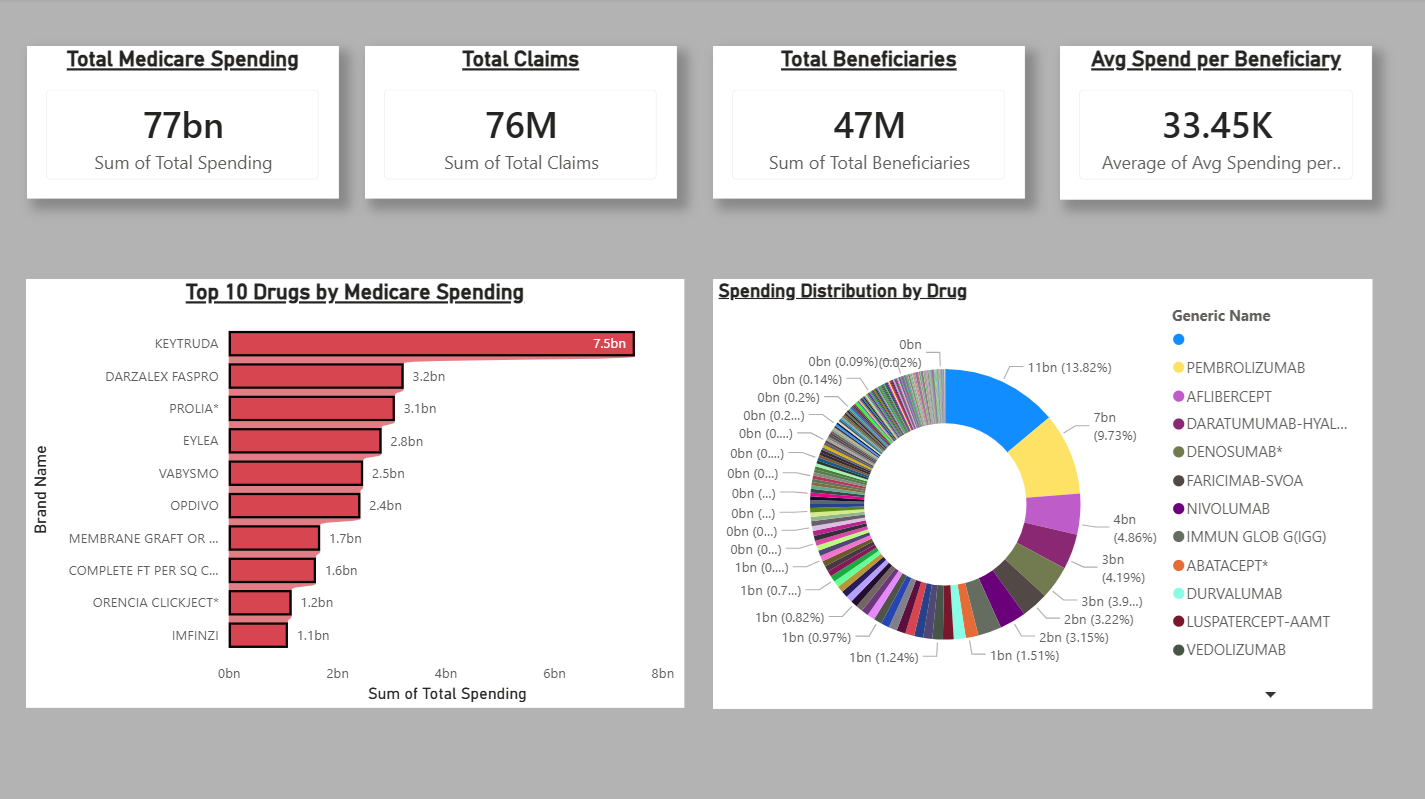

The page's visual inventory and layout, read from the dashboard file:
{"tool":"powerbi","page":{"name":"Executive Overview","canvas":[1280,720],"ordinal":0},"visuals":[{"type":"cardVisual","title":"Total Medicare Spending","fields":{"Data":["Sum(Medicare_Part_B.Total Spending)"]},"box":[23.9,42.8,279.7,137.4],"z":0},{"type":"cardVisual","title":"Total Claims","fields":{"Data":["Sum(Medicare_Part_B.otal Claims)"]},"box":[327.5,42.8,279.7,137.4],"z":1000},{"type":"cardVisual","title":"Total Beneficiaries","fields":{"Data":["Sum(Medicare_Part_B.Total Beneficiaries)"]},"box":[640,42.8,279.7,137.4],"z":2000},{"type":"cardVisual","title":"Avg Spend per Beneficiary","fields":{"Data":["Avg(Medicare_Part_B.Avg Spending per Beneficiary)"]},"box":[951.3,43.1,280.4,137.7],"z":3000},{"type":"barChart","title":"Top 10 Drugs by Medicare Spending","fields":{"Category":["Medicare_Part_B.Brand Name"],"Y":["Sum(Medicare_Part_B.Total Spending)"]},"box":[23.6,252.7,590.7,385.2],"z":4000},{"type":"donutChart","title":"Spending Distribution by Drug","fields":{"Category":["Medicare_Part_B.Generic Name"],"Y":["Sum(Medicare_Part_B.Total Spending)"]},"box":[640,252.6,592,385.6],"z":5000}]}

Visuals, with their boxes in screenshot pixels (x1, y1, x2, y2), scaled from the page's 1280x720 canvas onto the 1425x799 screenshot:
"Total Medicare Spending" cardVisual: l=27, t=47, r=338, b=200
"Total Claims" cardVisual: l=365, t=47, r=676, b=200
"Total Beneficiaries" cardVisual: l=712, t=47, r=1024, b=200
"Avg Spend per Beneficiary" cardVisual: l=1059, t=48, r=1371, b=201
"Top 10 Drugs by Medicare Spending" barChart: l=26, t=280, r=684, b=708
"Spending Distribution by Drug" donutChart: l=712, t=280, r=1372, b=708
